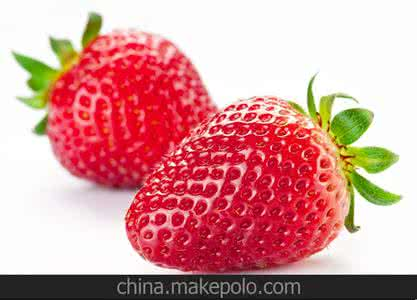strawberry: (127, 88, 387, 270), (24, 28, 214, 176)
